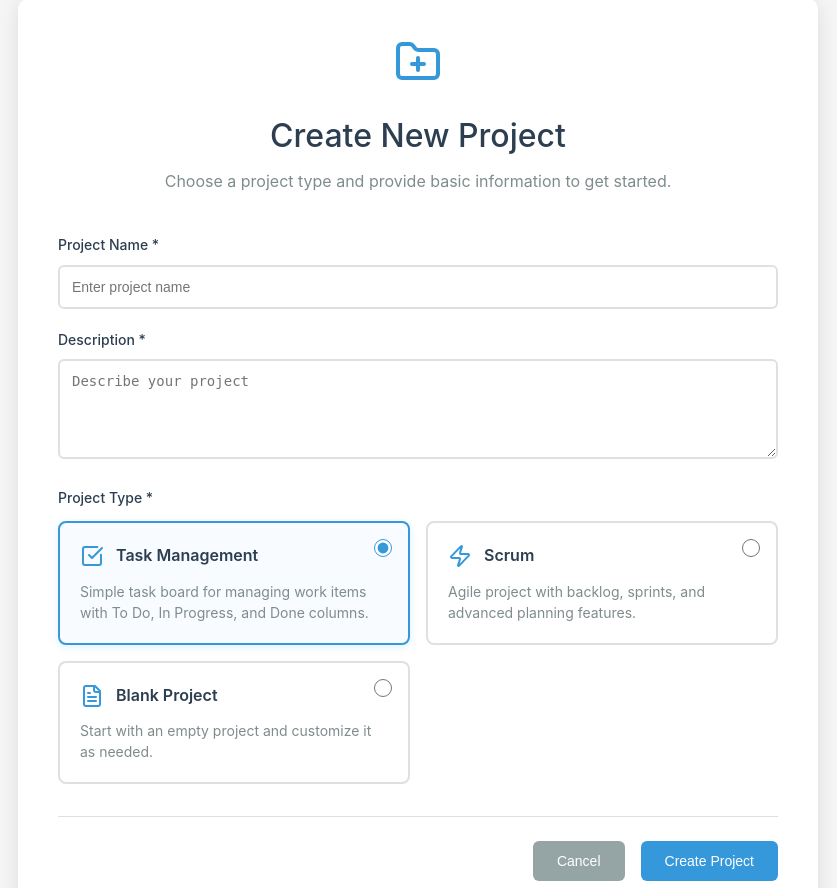
Test case: ProjectCreationForm › shows validation errors if required fields are missing
The image size is (837, 888).
Click the button "Create Project": (709, 861) x1=640 y1=841 x2=778 y2=881
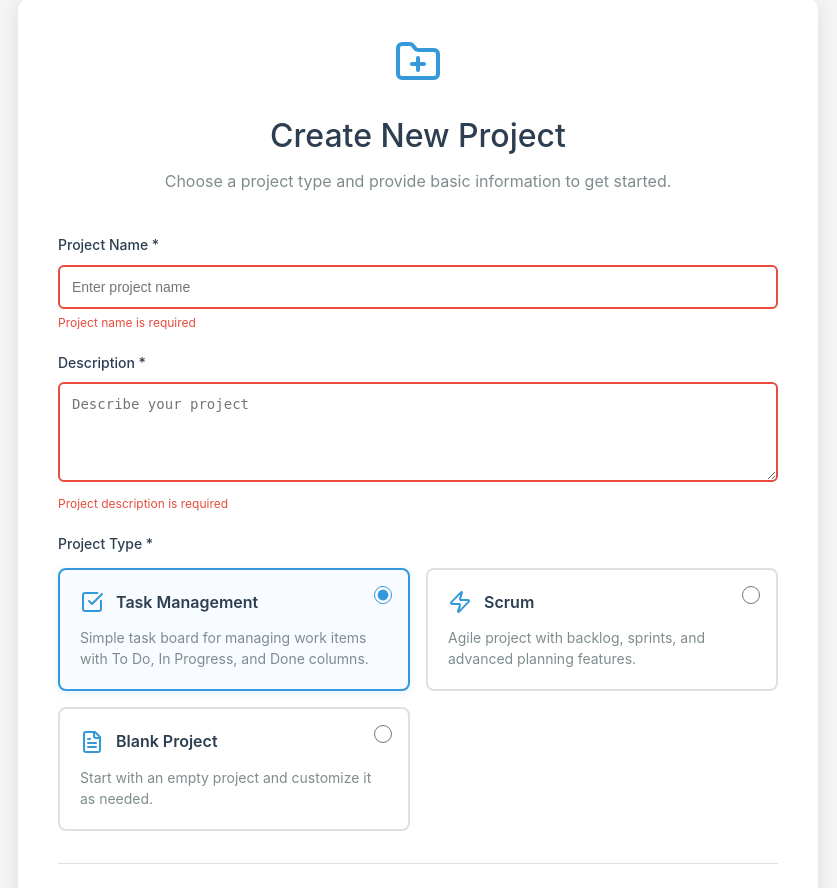
Check: the text "Project name is required" is shown, box x1=58 y1=315 x2=196 y2=330
Check: the text "Project description is required" is shown, box x1=58 y1=496 x2=228 y2=511
